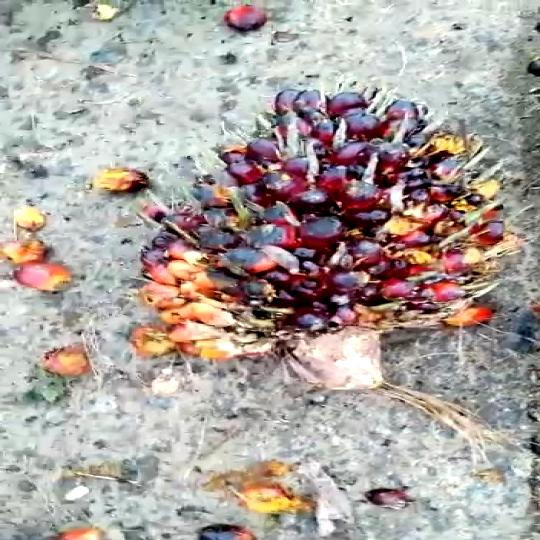masak: (106, 87, 522, 382)
